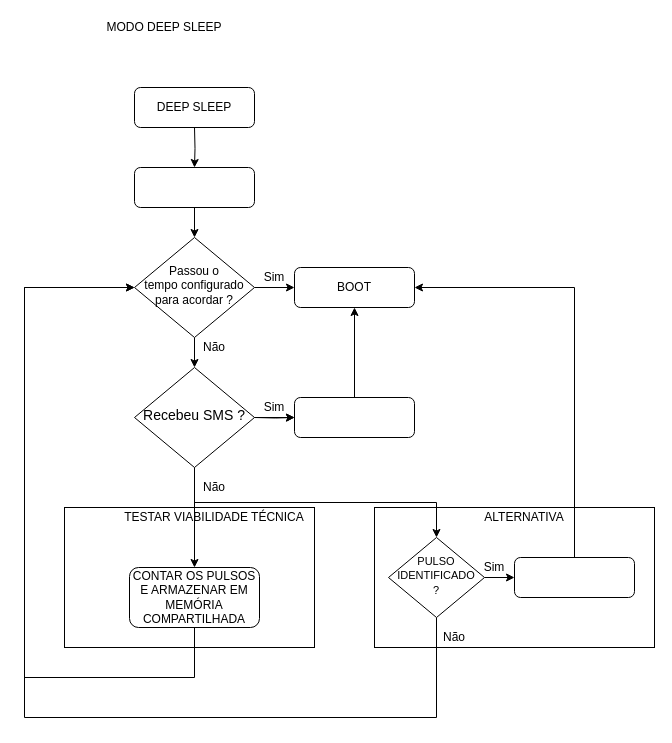
Image size: 672x743. Some labels were removed from this diagram. Each missing label, with the centre of its shape:
CONFIGURAR DEEP SLEEP: pixel 194 187
SALVAR DADOS: pixel 574 577
SALVAR MODO DE ACORDAR: pixel 354 417
